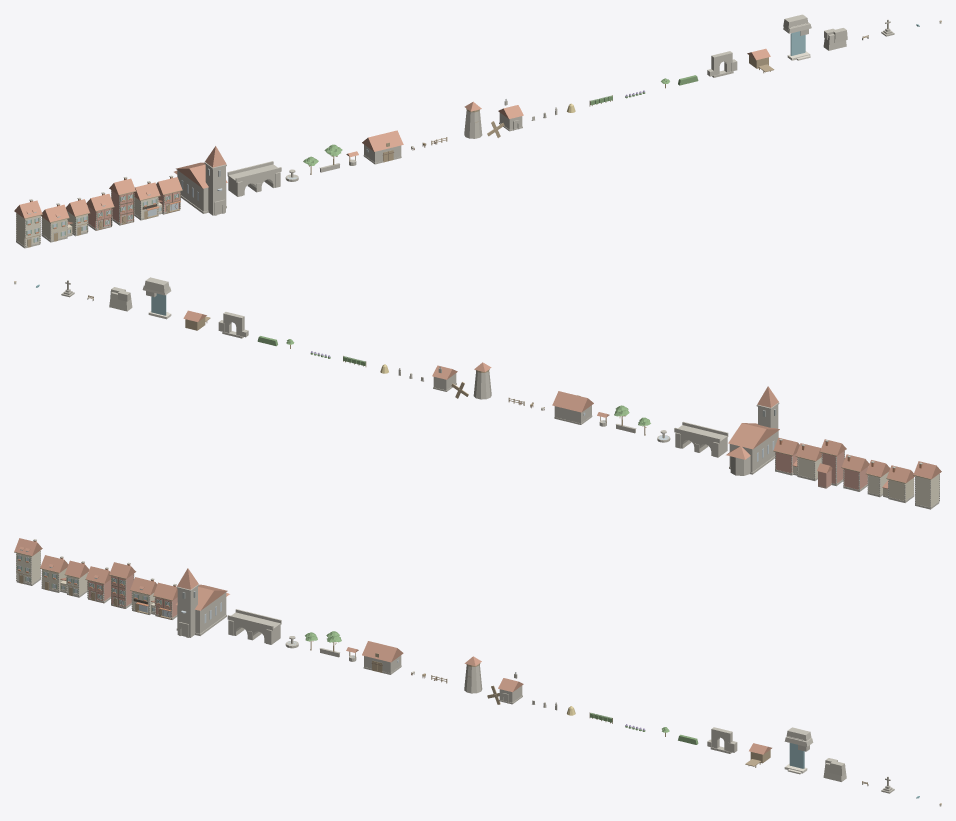
The model's file is kit.glb.
3 renders of one model, top to bottom at view 1: azimuth 30°, elevation 25°; view 2: azimuth 150°, elevation 25°; view 3: azimuth 330°, elevation 25°, orthographic.
Visible parts, largest first — view 1: Church, Bridge_Stone, House_TallA, Barn, House_TimberE, House_MidB, Waterfall, Shop_A, House_TimberD, Shop_B, House_NarrowC, Ruin_Arch (+2 smaller); view 2: Church, Bridge_Stone, House_TimberE, House_TallA, Barn, House_MidB, Shop_A, House_TimberD, Waterfall, Shop_B, House_NarrowC, Ruin_Arch (+2 smaller); view 3: Church, Bridge_Stone, House_TallA, Barn, House_TimberE, Waterfall, House_MidB, Shop_A, House_TimberD, Shop_B, House_NarrowC.
Part boxes in pixels (x1,y1,x2,y2): Church: (174, 146, 227, 215); Bridge_Stone: (227, 161, 281, 196); House_TallA: (14, 199, 42, 248); Barn: (362, 130, 403, 164); House_TimberE: (109, 177, 136, 225); House_MidB: (40, 203, 72, 242); Waterfall: (783, 14, 811, 60); Shop_A: (134, 181, 162, 220); House_TimberD: (86, 192, 114, 230); Shop_B: (156, 175, 182, 214); House_NarrowC: (66, 197, 90, 236); Ruin_Arch: (707, 51, 737, 77); Church: (726, 386, 779, 475); Bridge_Stone: (674, 421, 728, 457); House_TimberE: (817, 439, 846, 488); House_TallA: (913, 461, 941, 509); Barn: (552, 391, 593, 424); House_MidB: (882, 465, 915, 502); Shop_A: (792, 443, 821, 480); House_TimberD: (841, 454, 869, 491); Waterfall: (142, 277, 171, 319); Shop_B: (773, 437, 799, 475); House_NarrowC: (865, 460, 889, 497); Ruin_Arch: (218, 312, 248, 338); Church: (176, 568, 229, 637); Bridge_Stone: (227, 609, 281, 644); House_TallA: (14, 538, 42, 585); Barn: (362, 641, 403, 674); House_TimberE: (109, 562, 136, 608); Waterfall: (784, 727, 813, 774); House_MidB: (40, 555, 68, 592); Shop_A: (130, 577, 157, 614); House_TimberD: (85, 566, 111, 603); Shop_B: (153, 582, 177, 619); House_NarrowC: (64, 560, 89, 597).
Bounding box in the file's own units: 245 × 18.96 × 17.37.
